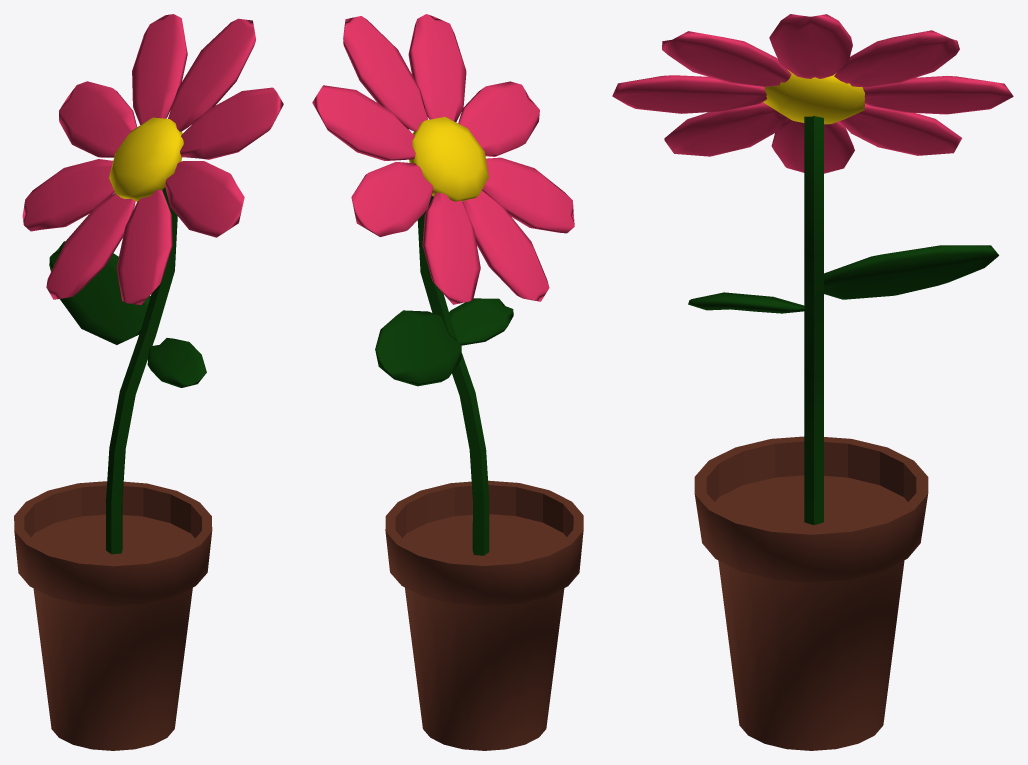
The model's file is Blume.fbx.
3 views of the same model, side by side, from view 1: azimuth 30°, elevation 25°; view 2: azimuth 150°, elevation 25°; view 3: azimuth 270°, elevation 25° (orthographic). The views are drawn at different scales.
Visible parts, largest first — view 1: pot, trunk, Leaf004, Leaf005, Leaf007, Leaf008, Leaf003, Leaf006, Head, Leaf009, Leaf002, Leaf (+1 smaller); view 2: pot, Leaf, Leaf004, Leaf003, Leaf009, Leaf008, Head, Leaf005, trunk, Leaf002, Leaf007, Leaf006 (+1 smaller); view 3: pot, trunk, Leaf, Leaf006, Leaf003, Leaf005, Leaf002, Leaf007, Leaf004, Leaf009, Head, Leaf008 (+1 smaller).
Part boxes in pixels (x1=…): pot: x1=14, y1=481, x2=212, y2=750; trunk: x1=106, y1=187, x2=177, y2=554; Leaf004: x1=168, y1=18, x2=255, y2=131; Leaf005: x1=180, y1=87, x2=283, y2=159; Leaf007: x1=116, y1=190, x2=172, y2=304; Leaf008: x1=46, y1=193, x2=135, y2=299; Leaf003: x1=132, y1=14, x2=187, y2=124; Leaf006: x1=165, y1=161, x2=244, y2=237; Head: x1=109, y1=117, x2=183, y2=201; Leaf009: x1=22, y1=159, x2=114, y2=231; Leaf002: x1=59, y1=81, x2=136, y2=157; Leaf: x1=49, y1=241, x2=150, y2=344; pot: x1=385, y1=480, x2=583, y2=750; Leaf: x1=375, y1=310, x2=461, y2=386; Leaf004: x1=343, y1=16, x2=428, y2=131; Leaf003: x1=312, y1=85, x2=415, y2=160; Leaf009: x1=422, y1=192, x2=480, y2=304; Leaf008: x1=462, y1=190, x2=549, y2=301; Head: x1=409, y1=117, x2=488, y2=201; Leaf005: x1=408, y1=14, x2=466, y2=121; trunk: x1=417, y1=196, x2=489, y2=555; Leaf002: x1=351, y1=162, x2=433, y2=236; Leaf007: x1=482, y1=157, x2=574, y2=233; Leaf006: x1=458, y1=81, x2=539, y2=156; pot: x1=694, y1=436, x2=928, y2=750; trunk: x1=804, y1=116, x2=823, y2=525; Leaf: x1=824, y1=245, x2=998, y2=299; Leaf006: x1=612, y1=75, x2=766, y2=113; Leaf003: x1=834, y1=30, x2=959, y2=87; Leaf005: x1=662, y1=31, x2=791, y2=86; Leaf002: x1=863, y1=75, x2=1013, y2=114; Leaf007: x1=664, y1=102, x2=786, y2=156; Leaf004: x1=769, y1=14, x2=852, y2=78; Leaf009: x1=840, y1=104, x2=961, y2=155; Head: x1=763, y1=69, x2=864, y2=124; Leaf008: x1=771, y1=117, x2=854, y2=173.
Size of the model in its own units: 90.49 by 256 by 119.
